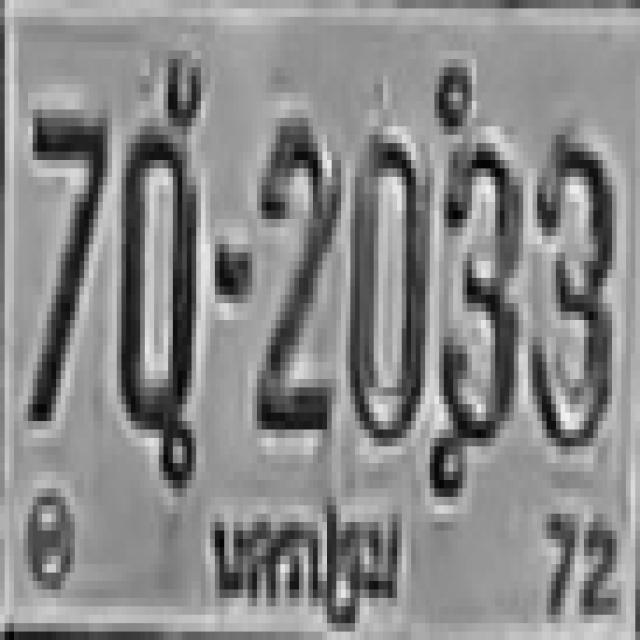0: (117, 109, 196, 455), (346, 126, 425, 438), (117, 118, 196, 421)
2: (252, 114, 336, 425)
3: (429, 135, 518, 446), (526, 126, 610, 446)
7: (23, 105, 103, 417)
NakhonPathom: (200, 486, 413, 638)
